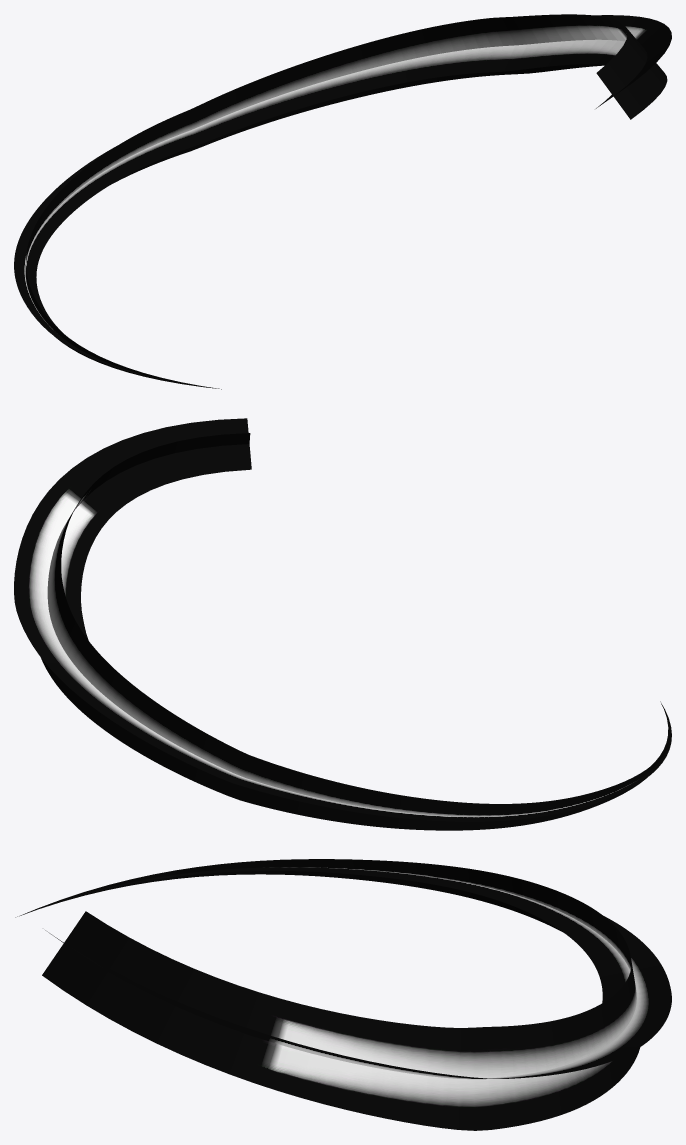
Rendered from TypeZero2.fbx.
3 renders of one model, top to bottom at view 1: azimuth 30°, elevation 25°; view 2: azimuth 150°, elevation 25°; view 3: azimuth 270°, elevation 25°, orthographic. The views are drawn at different scales.
Parts seen in each view (by area): view 1: SM_WEP_Eff_D61NJ1_A_02.mo; view 2: SM_WEP_Eff_D61NJ1_A_02.mo; view 3: SM_WEP_Eff_D61NJ1_A_02.mo.
Boxes of the visible parts, x1,y1,x2,y2 form: SM_WEP_Eff_D61NJ1_A_02.mo: [14, 14, 671, 389]; SM_WEP_Eff_D61NJ1_A_02.mo: [14, 418, 671, 830]; SM_WEP_Eff_D61NJ1_A_02.mo: [15, 859, 671, 1130].
Size of the model in its own units: 902 by 287 by 633.
